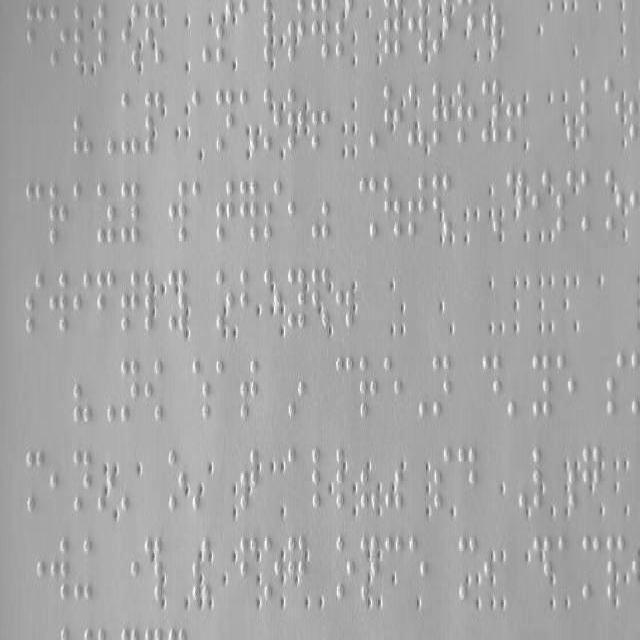braiile: (580, 73, 602, 140), (530, 353, 552, 420), (580, 166, 600, 234), (120, 91, 140, 158), (456, 80, 476, 147), (382, 353, 402, 420), (556, 351, 576, 418), (262, 178, 282, 244), (215, 356, 235, 422), (334, 354, 354, 419), (358, 354, 378, 419), (458, 446, 477, 514), (214, 88, 234, 152), (48, 270, 68, 334), (582, 534, 600, 604), (120, 271, 140, 333), (431, 354, 451, 416), (408, 536, 428, 598), (408, 172, 427, 237), (240, 268, 258, 336), (98, 5, 118, 66), (312, 446, 331, 510), (604, 73, 622, 140), (72, 180, 90, 247), (482, 353, 500, 420), (263, 533, 281, 600), (558, 533, 576, 600), (120, 358, 138, 424), (240, 356, 258, 422), (50, 538, 68, 604), (239, 536, 257, 602), (336, 536, 354, 602), (72, 271, 91, 333), (27, 3, 45, 68), (49, 183, 67, 248), (606, 352, 624, 417), (239, 0, 259, 58), (556, 170, 574, 234), (26, 450, 44, 514), (26, 182, 44, 245), (120, 182, 138, 245), (50, 4, 68, 66), (168, 180, 186, 242), (191, 178, 209, 240), (216, 178, 234, 240), (531, 171, 549, 233), (25, 271, 43, 333), (96, 271, 114, 333), (287, 267, 305, 329), (73, 449, 91, 511), (168, 451, 186, 513), (287, 447, 305, 509), (74, 4, 92, 64), (192, 88, 208, 148)
